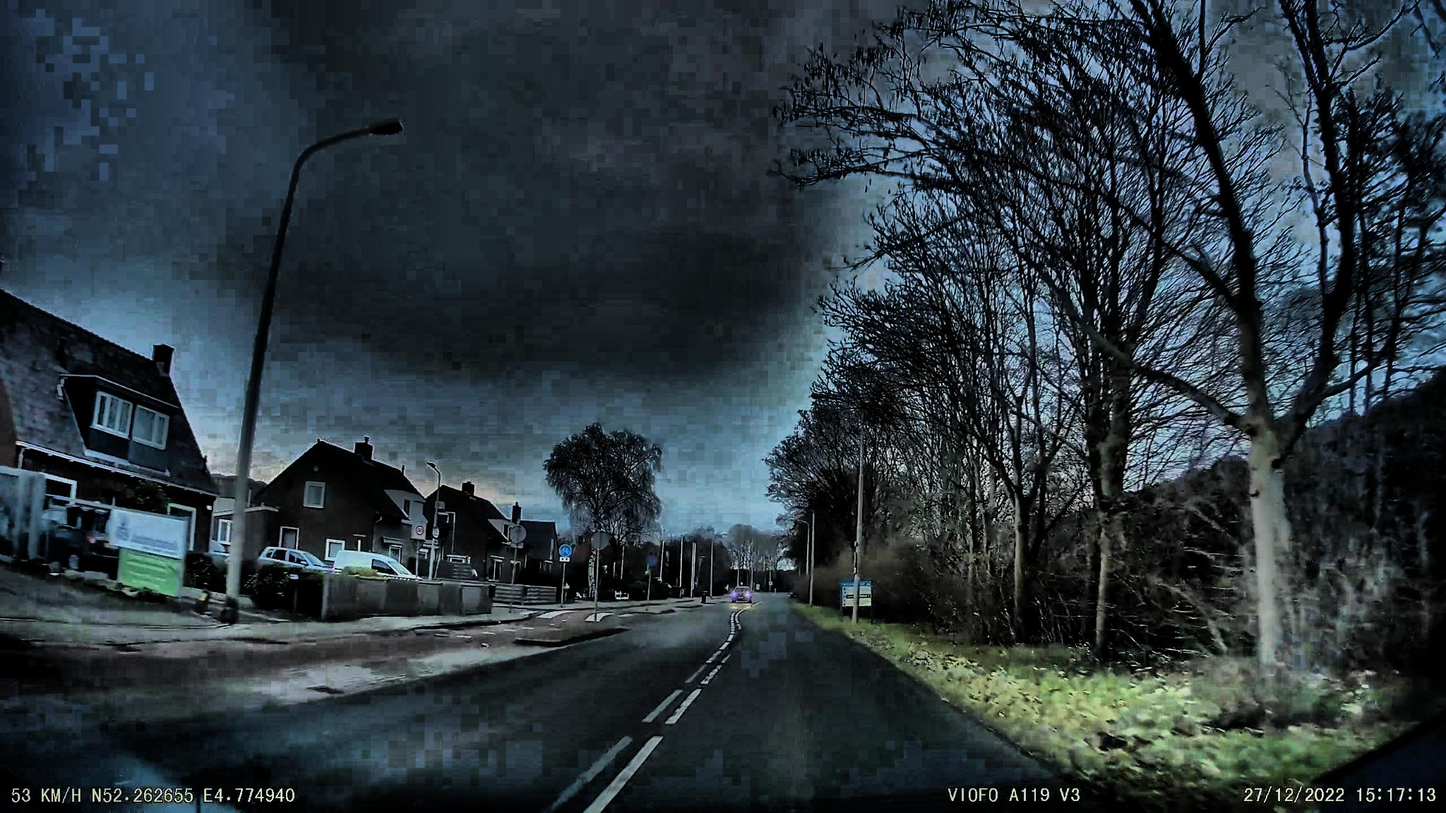Roads: (112, 603, 1110, 813)
